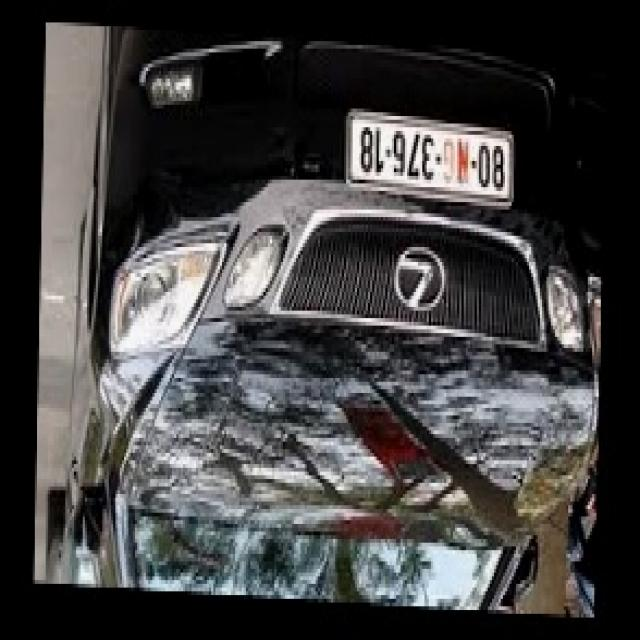bien_ngoai_giao: (345, 110, 515, 208)
